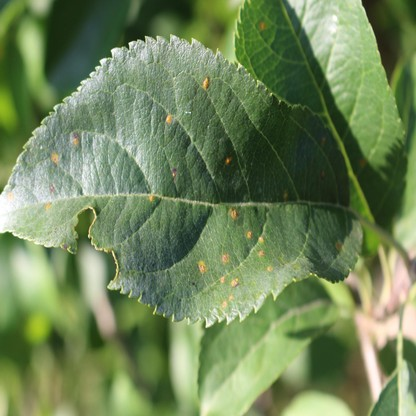rust: (70, 131, 79, 147), (199, 259, 207, 274), (334, 239, 343, 252), (228, 208, 238, 218), (50, 151, 58, 162), (203, 75, 210, 87), (232, 279, 240, 287), (221, 253, 228, 262), (282, 189, 287, 200), (257, 250, 266, 256), (260, 20, 265, 30), (173, 168, 177, 180), (7, 191, 11, 202), (321, 135, 326, 143), (166, 113, 170, 123), (45, 202, 50, 210), (247, 231, 252, 239), (267, 265, 272, 273), (225, 156, 230, 163), (229, 293, 234, 300), (221, 276, 225, 283), (222, 301, 227, 306), (50, 183, 53, 190), (148, 194, 152, 199), (259, 236, 263, 241)
